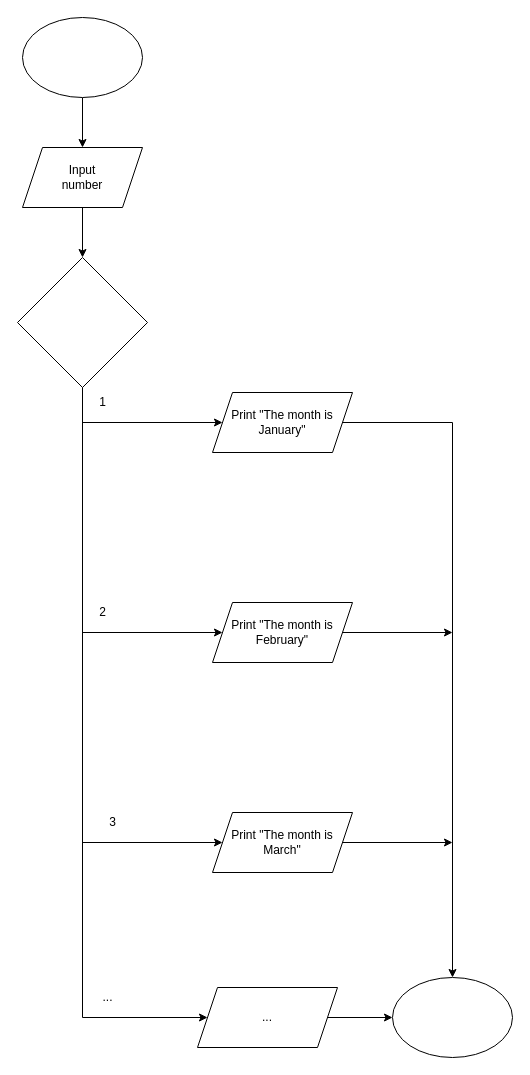
The diagram is 530 pixels wide and 1075 high, and some of its shapes have lost their labels. The shapes that lost their labels are listed below. From the top down, each one's centre as x and y in pixels, then its label:
At (82,57): "Start".
At (82,322): "Corresponding month".
At (452,1017): "Stop".
